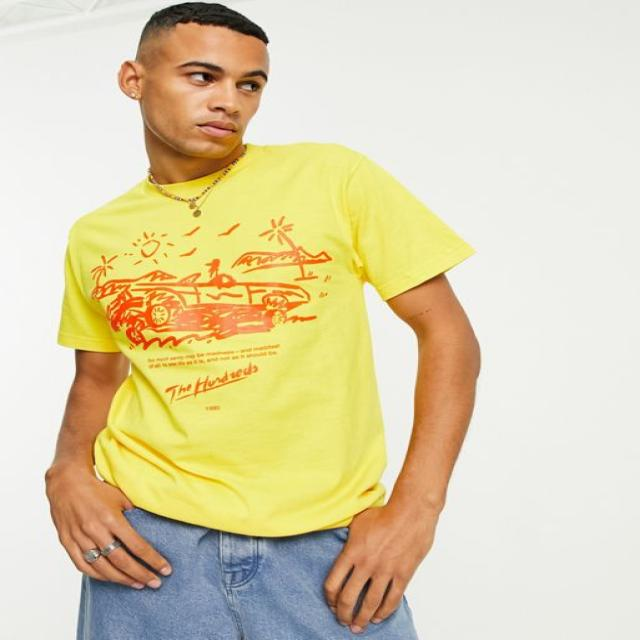tshirt: (55, 140, 473, 535)
